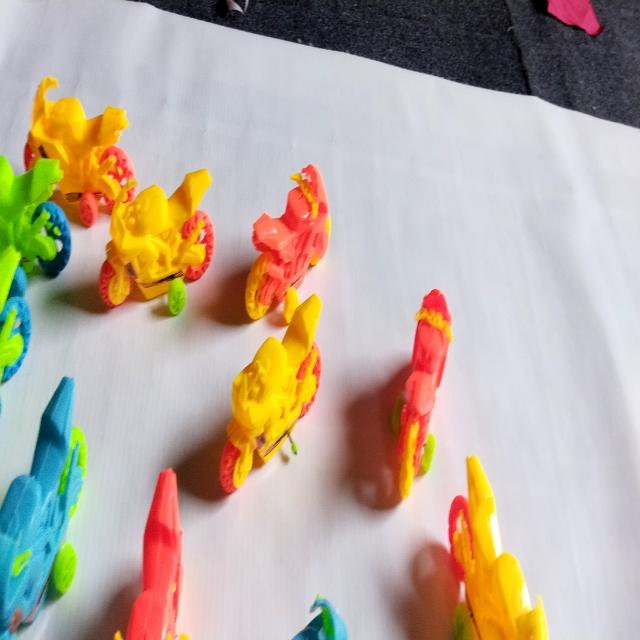bikes: (0, 378, 86, 640), (220, 294, 321, 491), (24, 77, 136, 227), (100, 169, 214, 305), (246, 165, 330, 318), (398, 290, 452, 498)
